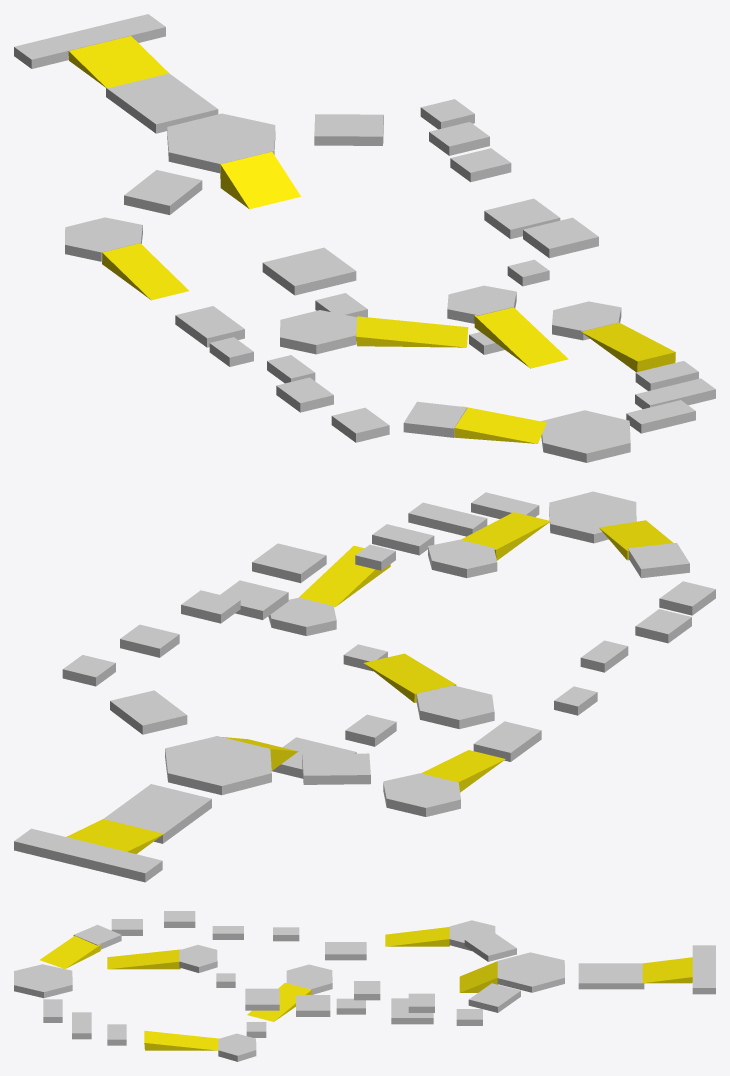
The model's file is _Tutorial_.fbx.
3 renders of one model, top to bottom at view 1: azimuth 30°, elevation 25°; view 2: azimuth 150°, elevation 25°; view 3: azimuth 270°, elevation 25°, orthographic. The views are drawn at different scales.
Parts seen in each view (by area): view 1: Hexagon, UnderFloor_21, Hexagon__5_, UnderFloor_20, Prism, Prism__1_, Prism__2_, Prism__6_, Hexagon__2_, Prism__4_, UnderFloor, Prism__3_ (+29 smaller); view 2: Hexagon, UnderFloor_20, UnderFloor_21, Hexagon__5_, Hexagon__2_, Hexagon__1_, Prism__3_, Hexagon__4_, Prism__6_, Hexagon__3_, Prism__2_, Prism (+30 smaller); view 3: Hexagon, UnderFloor_21, Hexagon__5_, Prism__3_, Prism__2_, Prism, UnderFloor_20, Prism__5_, Prism__4_, Hexagon__2_, UnderFloor_3, Hexagon__4_ (+35 smaller).
Part boxes in pixels (<box>): Hexagon: <box>167,113,275,173</box>; UnderFloor_21: <box>106,73,218,133</box>; Hexagon__5_: <box>541,410,630,462</box>; UnderFloor_20: <box>14,14,165,68</box>; Prism: <box>68,36,168,88</box>; Prism__1_: <box>220,152,300,209</box>; Prism__2_: <box>474,307,568,368</box>; Prism__6_: <box>356,316,468,347</box>; Hexagon__2_: <box>280,310,357,354</box>; Prism__4_: <box>102,243,188,300</box>; UnderFloor: <box>262,248,356,295</box>; Prism__3_: <box>581,322,675,372</box>; Hexagon: <box>165,736,271,795</box>; UnderFloor_20: <box>14,828,162,882</box>; UnderFloor_21: <box>103,784,211,843</box>; Hexagon__5_: <box>549,491,636,543</box>; Hexagon__2_: <box>416,685,494,729</box>; Hexagon__1_: <box>383,773,460,816</box>; Prism__3_: <box>299,545,390,607</box>; Hexagon__4_: <box>428,539,497,577</box>; Prism__6_: <box>363,653,456,702</box>; Hexagon__3_: <box>268,597,336,635</box>; Prism__2_: <box>460,512,550,560</box>; Prism: <box>66,819,163,853</box>; Hexagon: <box>497,952,564,992</box>; UnderFloor_21: <box>578,963,644,989</box>; Hexagon__5_: <box>14,964,72,998</box>; Prism__3_: <box>144,1030,218,1050</box>; Prism__2_: <box>107,949,180,969</box>; Prism: <box>642,957,692,983</box>; UnderFloor_20: <box>692,945,715,994</box>; Prism__5_: <box>40,936,100,968</box>; Prism__4_: <box>385,927,449,946</box>; Hexagon__2_: <box>286,964,332,994</box>; UnderFloor_3: <box>464,932,516,961</box>; Hexagon__4_: <box>179,945,217,972</box>.
Bounding box in the file's own units: 4452 × 1150 × 10389.
